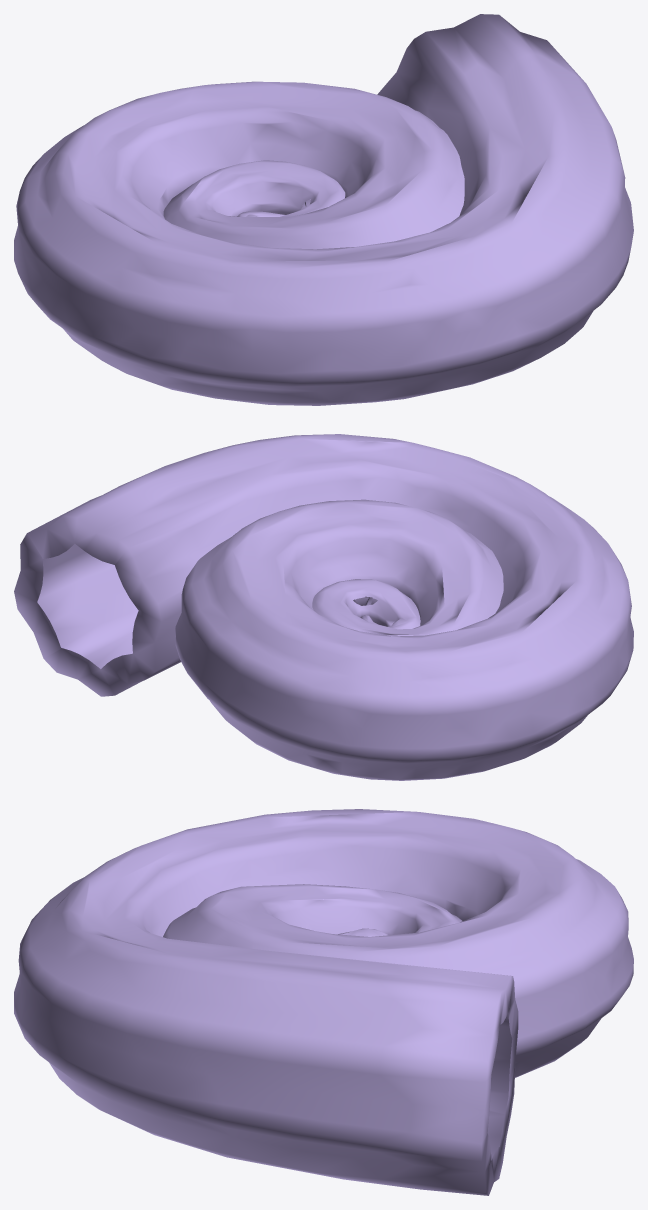
The model's file is shell3.fbx.
3 renders of one model, top to bottom at view 1: azimuth 30°, elevation 25°; view 2: azimuth 150°, elevation 25°; view 3: azimuth 270°, elevation 25°, orthographic. The views are drawn at different scales.
Visible parts, largest first — view 1: shell3; view 2: shell3; view 3: shell3.
Part boxes in pixels (<box>): shell3: <box>14,14,633,405</box>; shell3: <box>14,434,633,780</box>; shell3: <box>14,809,633,1195</box>.
Size of the model in its own units: 20.42 by 6.55 by 18.19.
